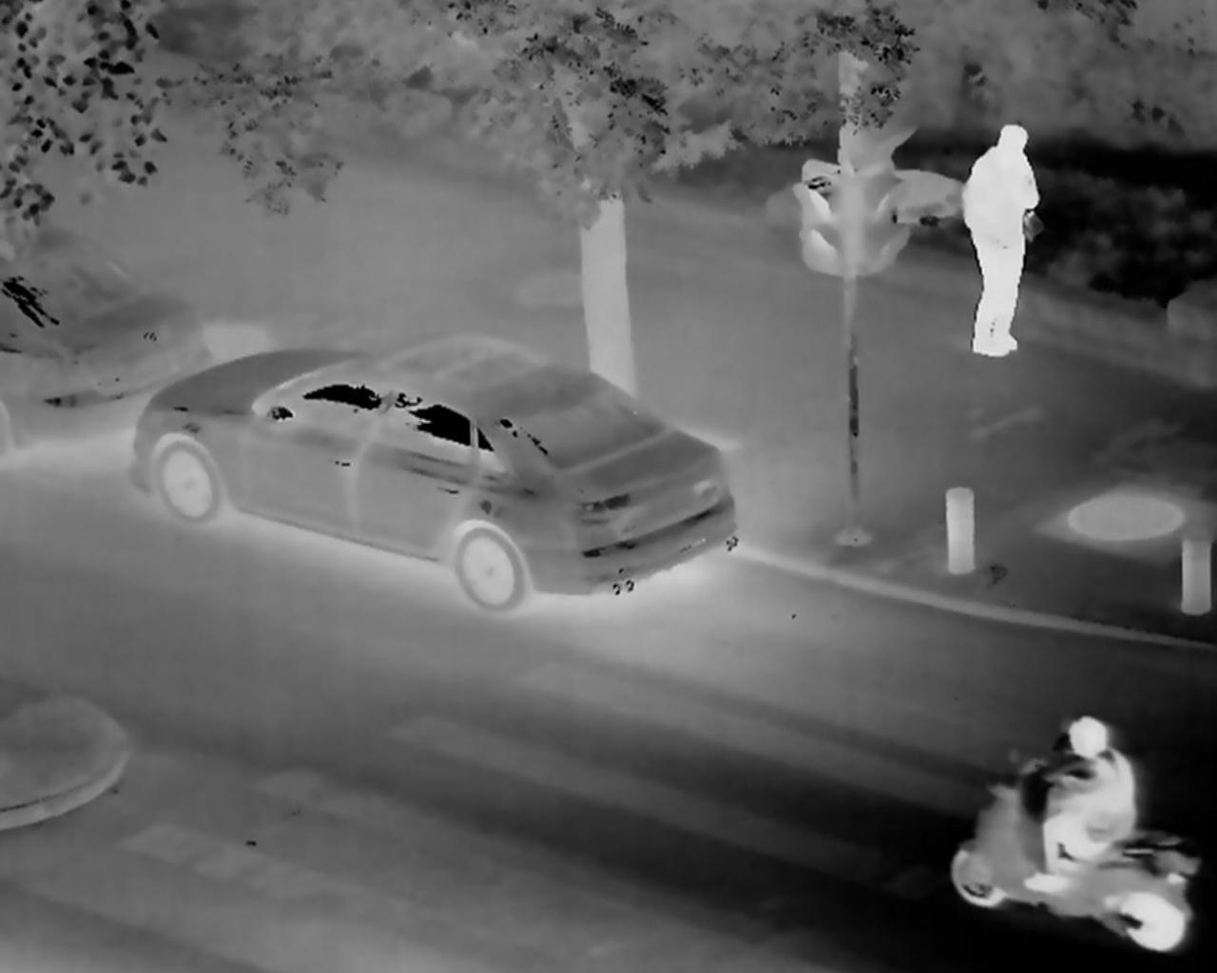person: (1013, 715, 1156, 905), (946, 122, 1040, 360)
